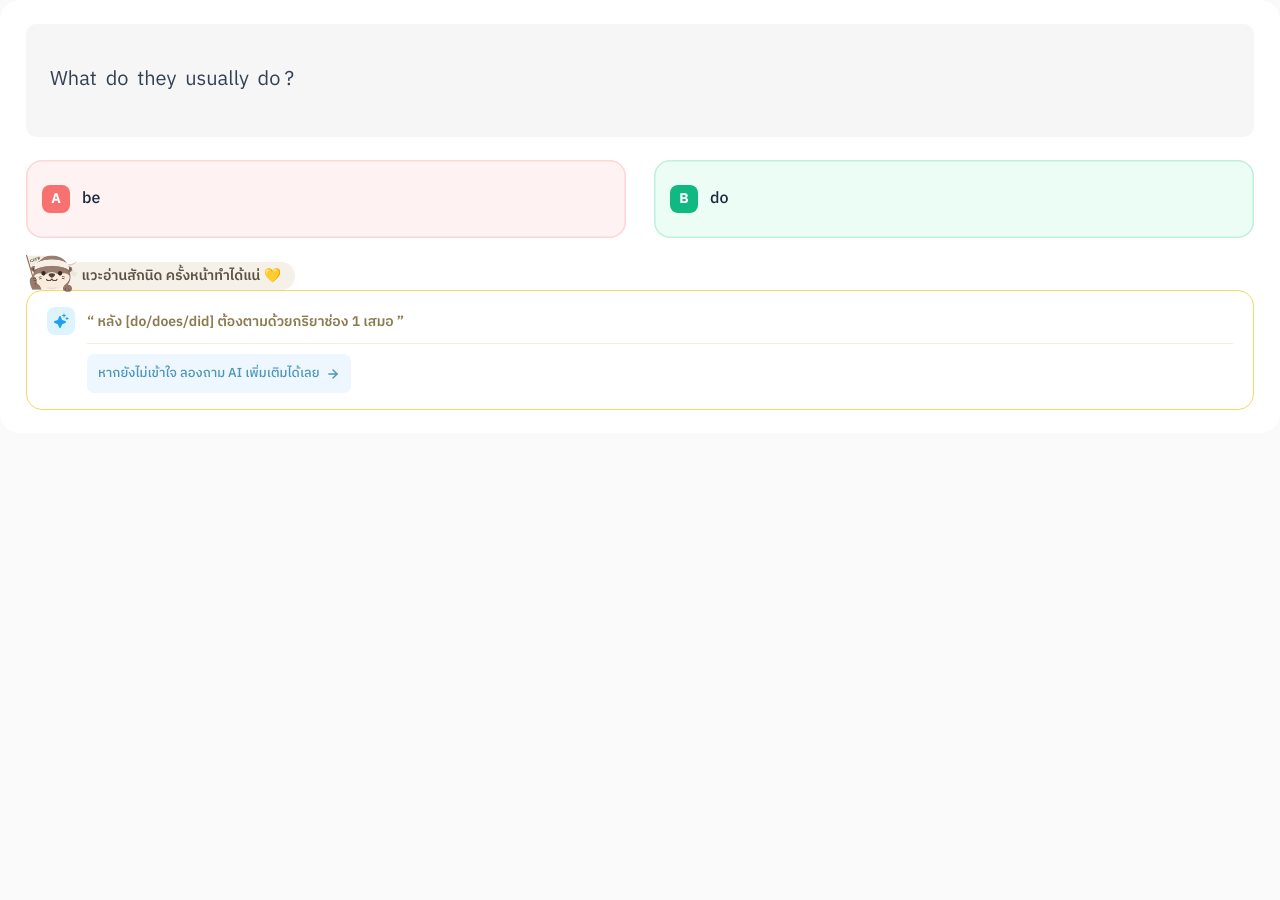
Test case: FocusFormQuestionCard — ปุ่มชวนถาม AI ในกล่องเฉลย › กดปุ่มแล้วจึงเปลี่ยนเป็นกรอบ AI Tutor
Expected: the text "โหมด AI" is not shown
Click the button "หากยังไม่เข้าใจ ลองถาม AI เพิ่มเติมได้เลย" at (219, 374), box [87,354,350,393]
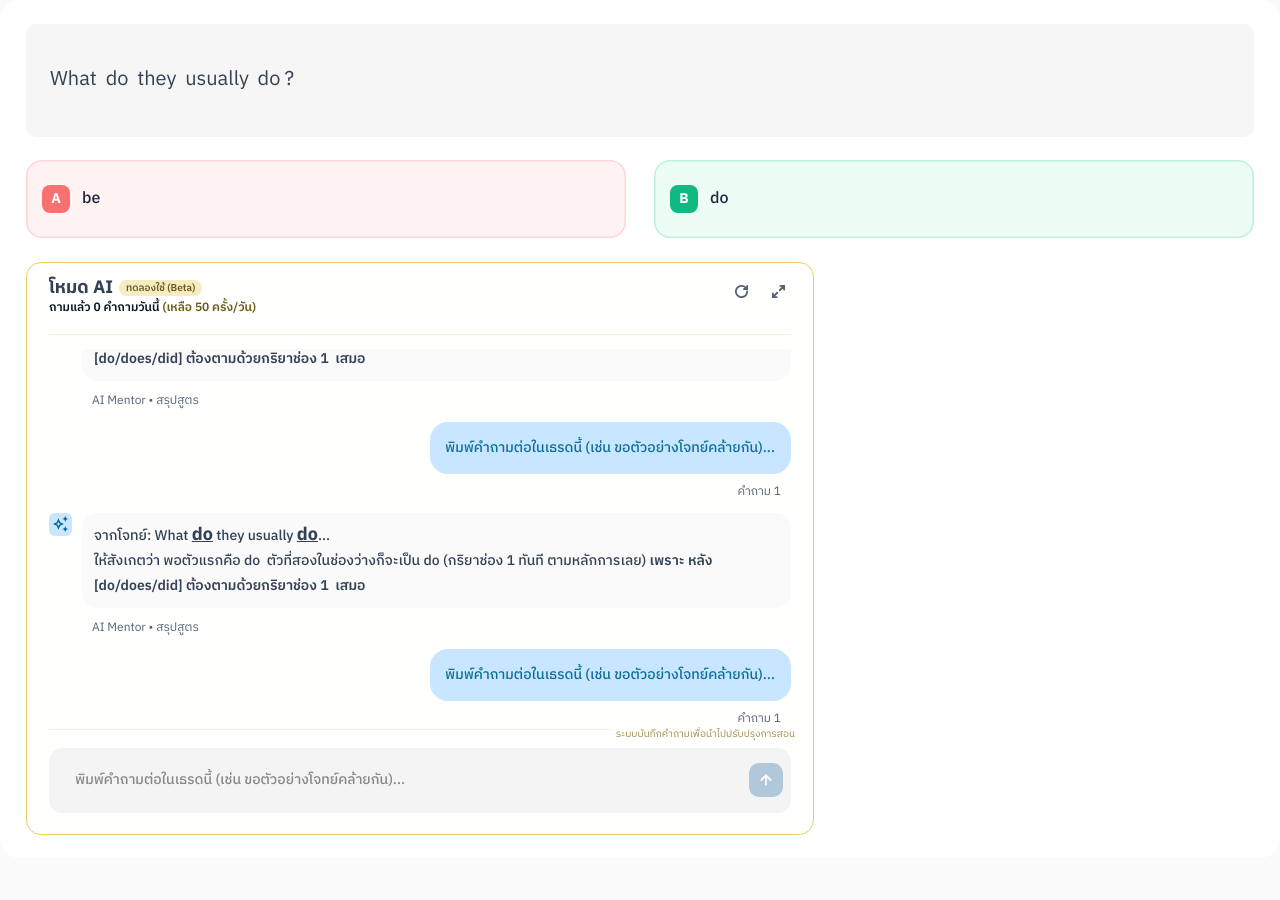
Result: the text "โหมด AI" is shown at [49,276,113,300]
